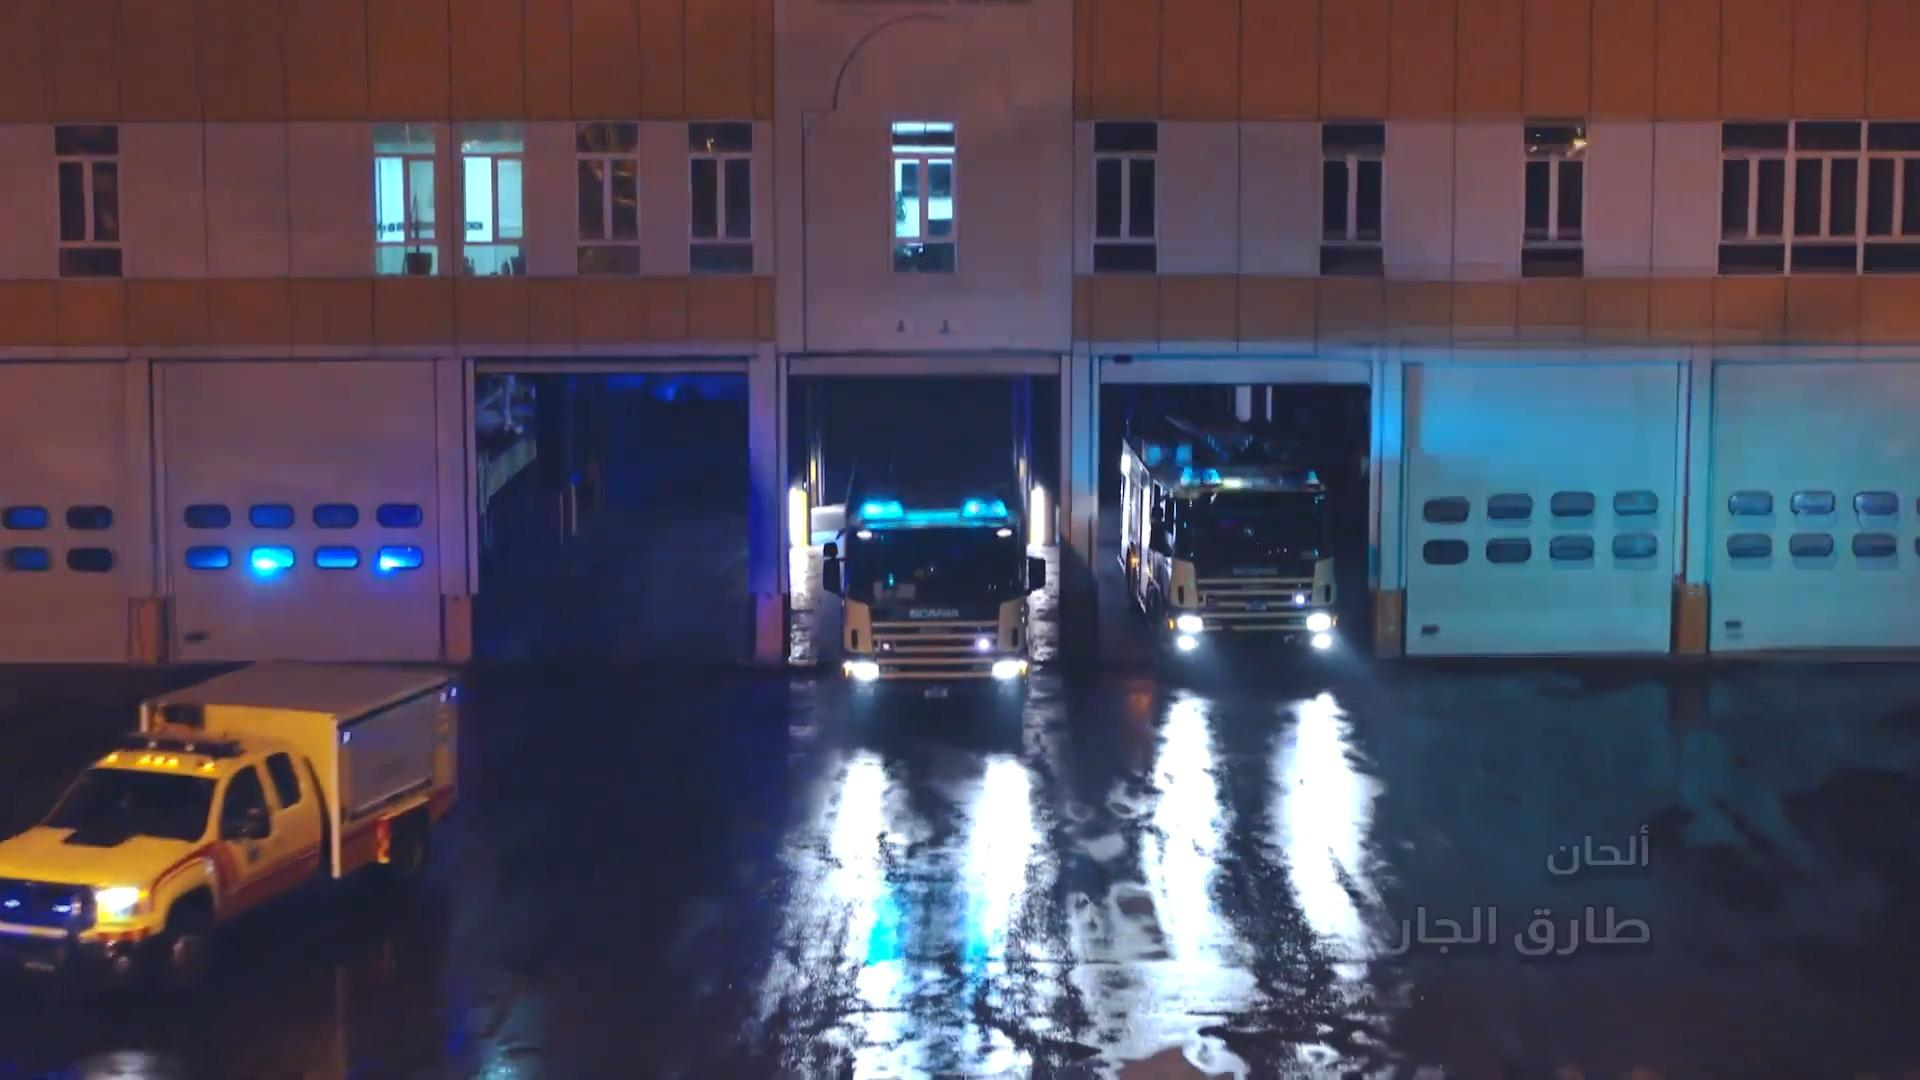firetruck_off: (5, 663, 458, 1026)
firetruck_on: (824, 442, 1046, 731), (1117, 421, 1341, 688)
